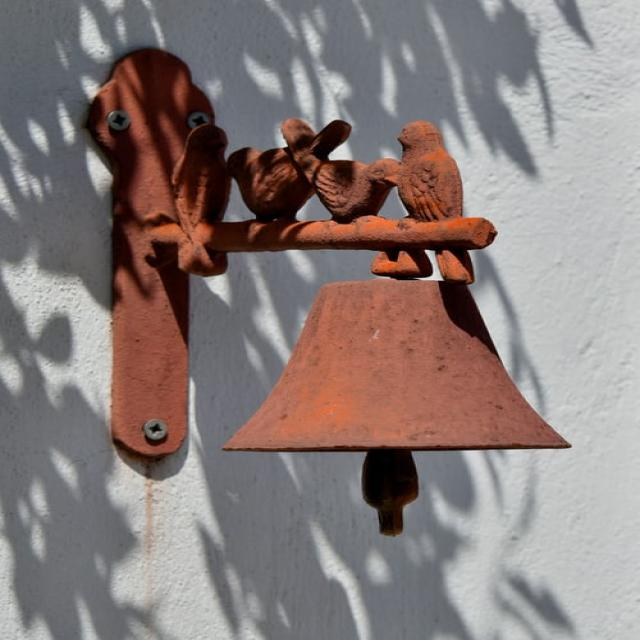corrosion: (85, 46, 572, 536)
